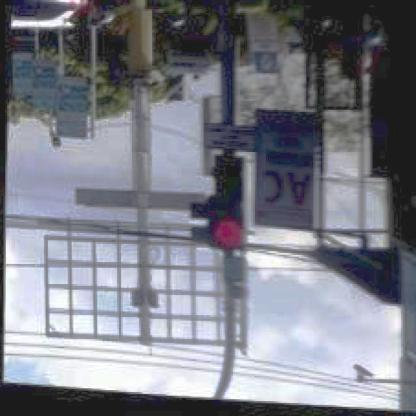Traffic Light -Red-: (209, 158, 249, 256)
